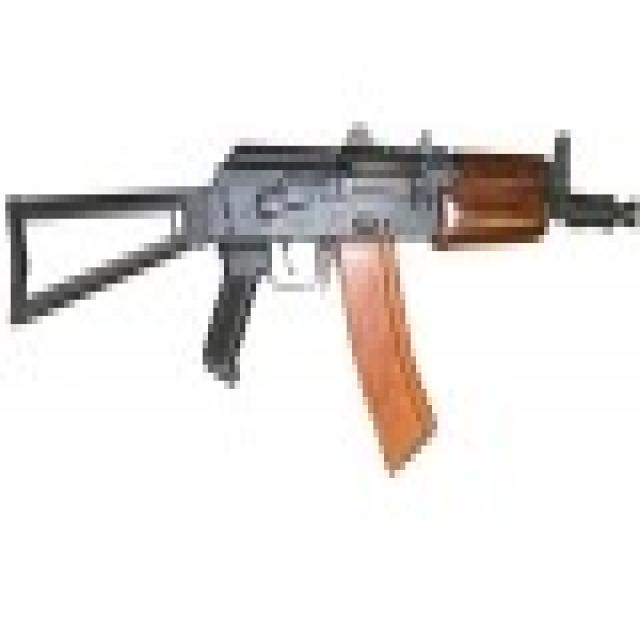Gun: (52, 101, 624, 417)
